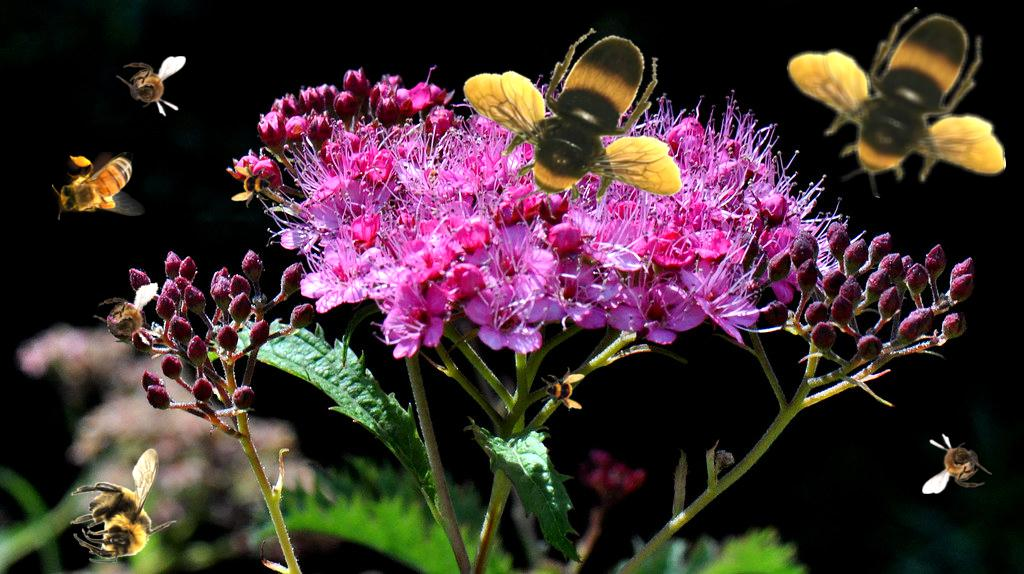Bee: (786, 7, 1006, 198), (462, 28, 682, 219), (70, 448, 177, 563), (52, 152, 145, 220), (88, 281, 171, 357), (922, 433, 992, 494), (116, 56, 186, 117), (231, 164, 275, 208), (541, 367, 585, 411)
